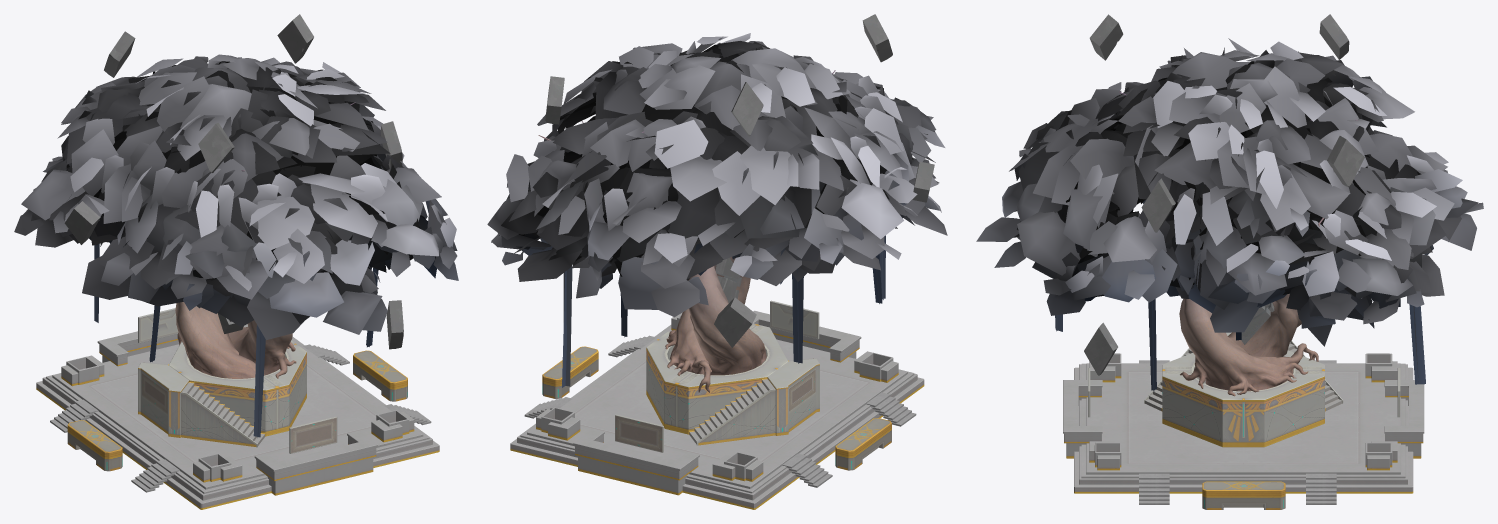
Rendered from PF_Warship_Zhongyangjingguan.fbx.
3 views of the same model, side by side, from view 1: azimuth 30°, elevation 25°; view 2: azimuth 150°, elevation 25°; view 3: azimuth 270°, elevation 25° (orthographic). The views are drawn at different scales.
Parts seen in each view (by area): view 1: SM_Warship_Tree02, SM_Warship_Platform_02, SM_Warship_Platform_01, SM_Warship_Tree01, SM_Warship_Fushi; view 2: SM_Warship_Tree02, SM_Warship_Platform_02, SM_Warship_Platform_01, SM_Warship_Tree01, SM_Warship_Fushi; view 3: SM_Warship_Tree02, SM_Warship_Platform_02, SM_Warship_Platform_01, SM_Warship_Tree01, SM_Warship_Fushi.
Part boxes in pixels (x1=…): SM_Warship_Tree02: x1=14, y1=54, x2=458, y2=437; SM_Warship_Platform_02: x1=36, y1=324, x2=439, y2=509; SM_Warship_Platform_01: x1=50, y1=308, x2=431, y2=492; SM_Warship_Tree01: x1=175, y1=102, x2=355, y2=378; SM_Warship_Fushi: x1=64, y1=14, x2=403, y2=349; SM_Warship_Tree02: x1=487, y1=33, x2=947, y2=387; SM_Warship_Platform_02: x1=510, y1=310, x2=924, y2=509; SM_Warship_Platform_01: x1=524, y1=300, x2=916, y2=487; SM_Warship_Tree01: x1=538, y1=70, x2=835, y2=392; SM_Warship_Fushi: x1=545, y1=14, x2=934, y2=347; SM_Warship_Tree02: x1=976, y1=38, x2=1483, y2=391; SM_Warship_Platform_02: x1=1063, y1=353, x2=1424, y2=509; SM_Warship_Platform_01: x1=1088, y1=332, x2=1400, y2=504; SM_Warship_Tree01: x1=1119, y1=91, x2=1357, y2=396; SM_Warship_Fushi: x1=1084, y1=14, x2=1364, y2=375.
Size of the model in its own units: 32.84 by 32.13 by 38.43.
5 materials, 4 textured.
